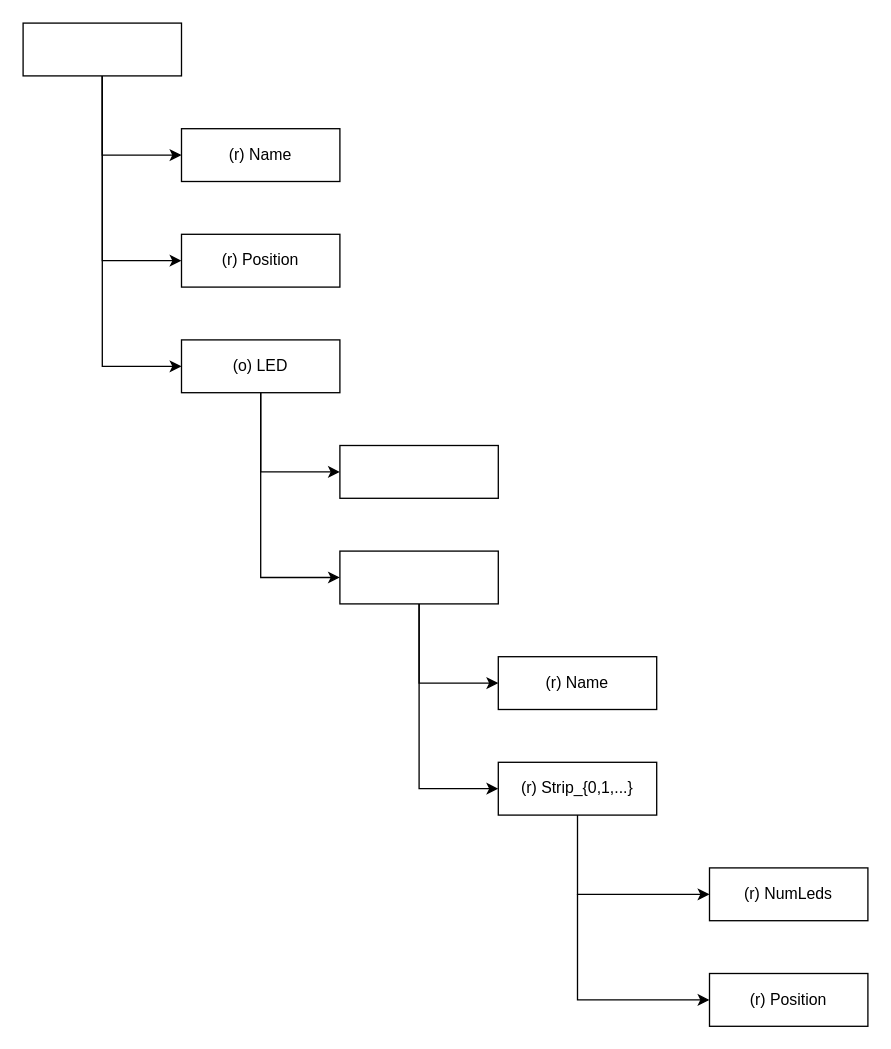
Some shapes in this 891 by 1049 pixel diagram are drawn without their labels. Here are the shapes that lost their labels. From the top down, the centre of each, then its label:
At (x=102, y=49): "Node".
At (x=418, y=471): "(r) CurrentEffect".
At (x=418, y=577): "(r) StripGroup".
